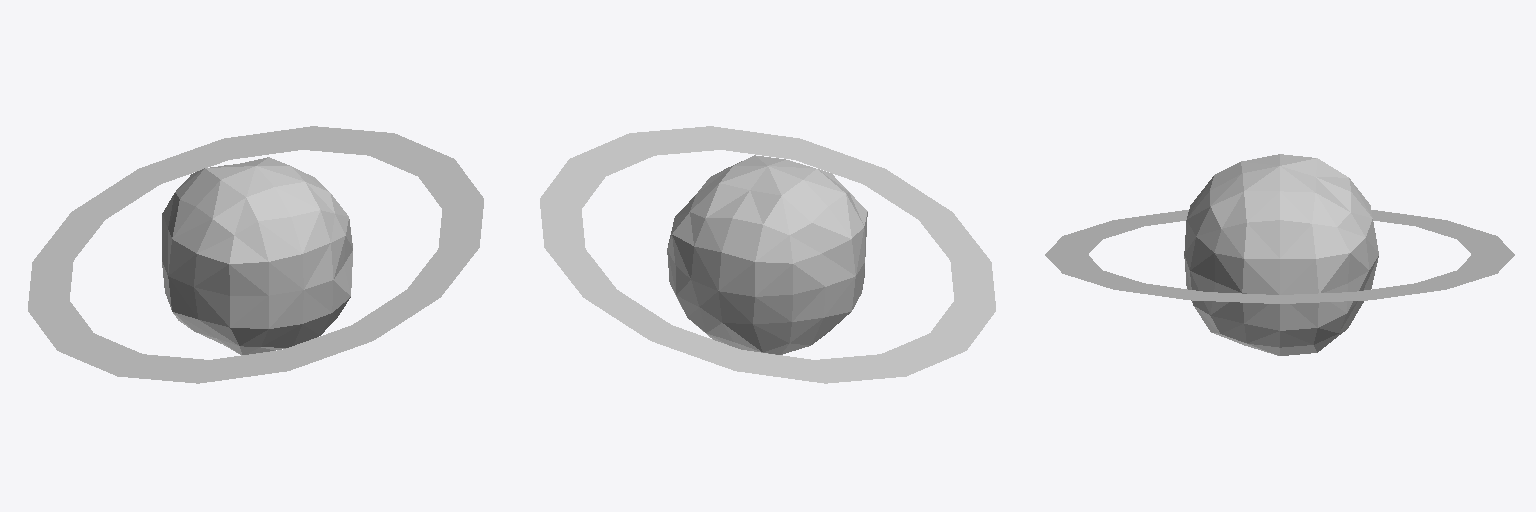
Rendered from planetAbout.obj.
The picture shows the model from 3 angles: view 1: azimuth 30°, elevation 25°; view 2: azimuth 150°, elevation 25°; view 3: azimuth 270°, elevation 25°; orthographic projection.
Visible parts, largest first — view 1: planetAbout1; view 2: planetAbout1; view 3: planetAbout1.
Part boxes in pixels (x1,y1,x2,y2): planetAbout1: (28,126,483,383); planetAbout1: (540,126,995,383); planetAbout1: (1045,154,1514,355).
Bounding box in the file's own units: 589 × 255 × 604.